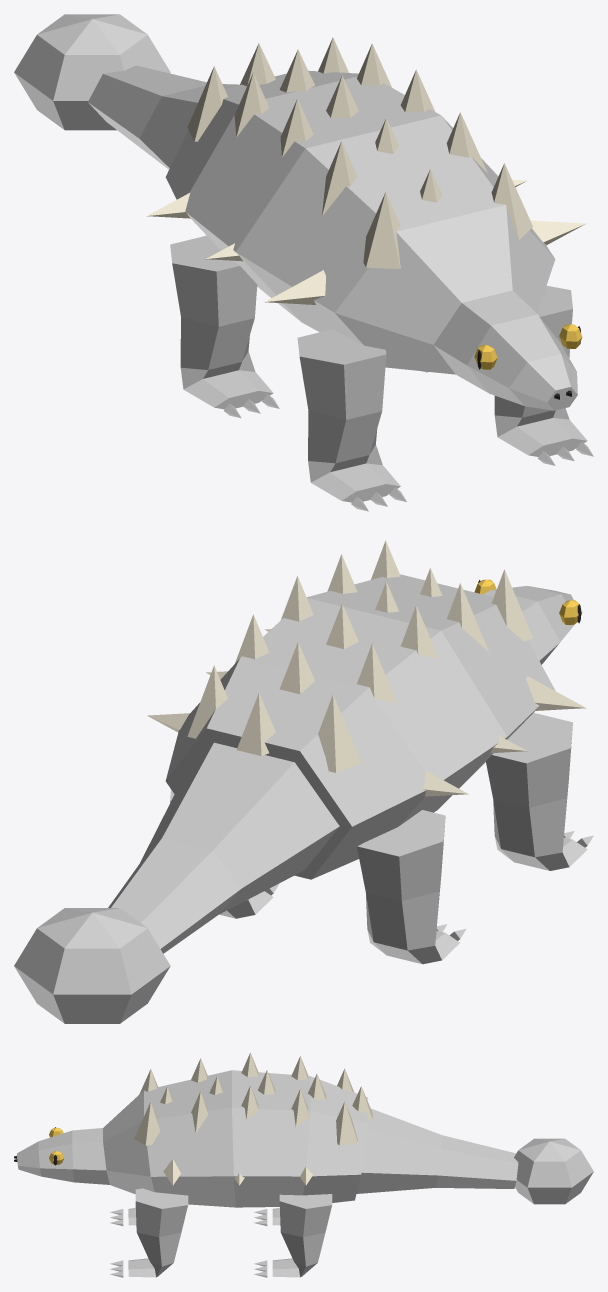
Rendered from armored.fbx.
The picture shows the model from 3 angles, top to bottom: view 1: azimuth 30°, elevation 25°; view 2: azimuth 150°, elevation 25°; view 3: azimuth 270°, elevation 25°; orthographic projection. The views are drawn at different scales.
Visible parts, largest first — view 1: armored_Body, armored_Tail, armored_Accent, armored_LegFR, armored_LegBR, armored_LegFL, armored_Eyes; view 2: armored_Body, armored_Tail, armored_Accent, armored_LegFR, armored_LegBR, armored_LegBL, armored_Eyes; view 3: armored_Body, armored_Tail, armored_Accent, armored_LegFL, armored_LegBL, armored_LegFR, armored_LegBR.
Boxes of the visible parts, x1,y1,x2,y2 form: armored_Body: (165,70,577,410); armored_Tail: (14,14,239,169); armored_Accent: (147,37,585,304); armored_LegFR: (297,329,406,511); armored_LegBR: (170,235,279,418); armored_LegFL: (494,285,593,465); armored_Eyes: (474,324,582,369); armored_Body: (165,574,574,879); armored_Tail: (14,742,339,1023); armored_Accent: (147,540,586,796); armored_LegFR: (486,713,593,870); armored_LegBR: (357,810,466,964); armored_LegBL: (170,789,279,918); armored_Eyes: (474,579,582,625); armored_Body: (17,1070,367,1207); armored_Tail: (356,1108,593,1204); armored_Accent: (134,1052,372,1185); armored_LegFL: (110,1188,188,1277); armored_LegBL: (254,1194,332,1277); armored_LegFR: (110,1208,136,1225); armored_LegBR: (254,1208,280,1225).
Size of the model in its own units: 3.8 by 3.55 by 10.47.
